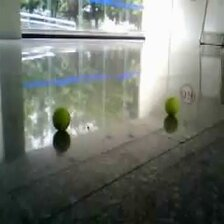tennis: (52, 107, 71, 129), (165, 97, 179, 114)
